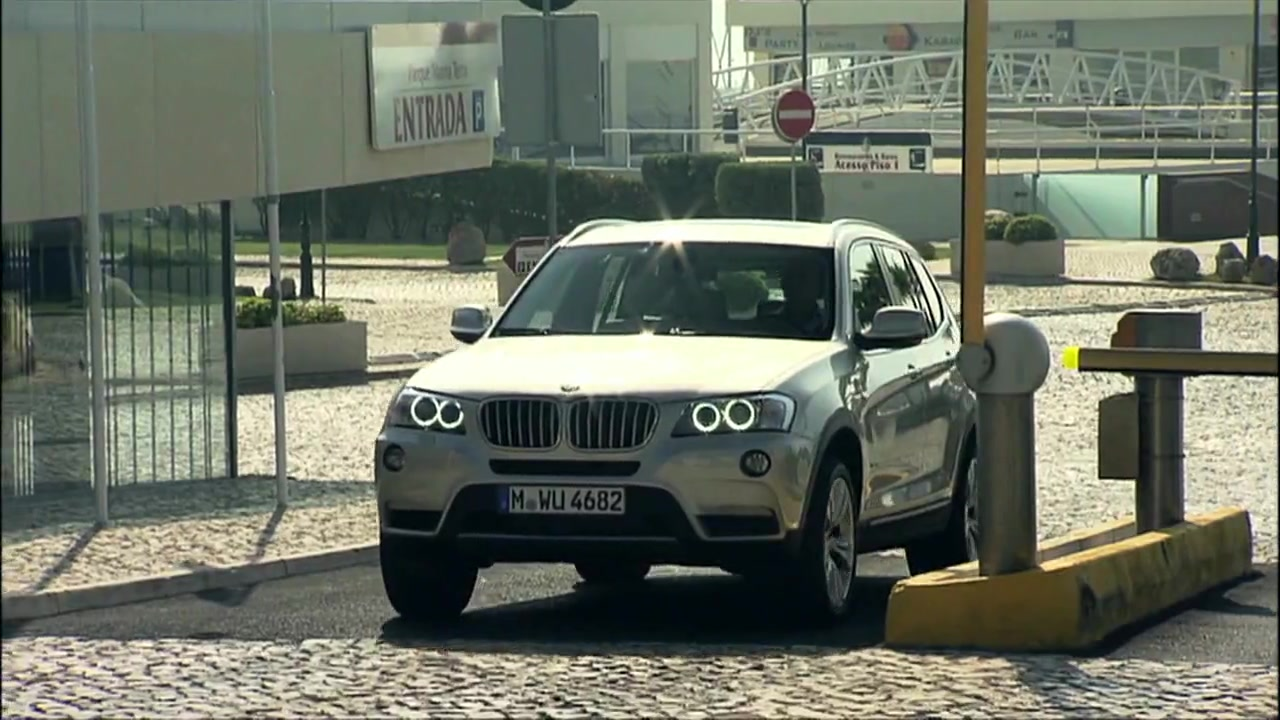car: (375, 211, 986, 623)
